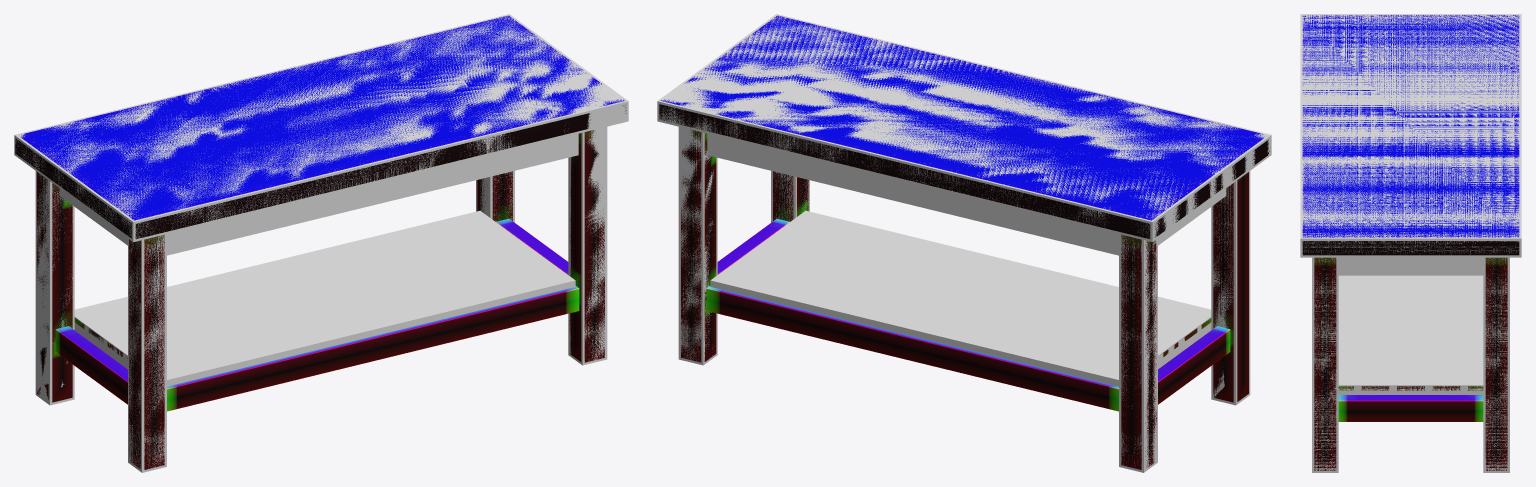
File: prop_workbench.fbx
The picture shows the model from 3 angles, left to right: view 1: azimuth 30°, elevation 25°; view 2: azimuth 150°, elevation 25°; view 3: azimuth 270°, elevation 25°; orthographic projection. The views are drawn at different scales.
Parts seen in each view (by area): view 1: prop_workbench, COL_2, COL_0, COL_1, COL_3, COL_5, COL_4, COL_6; view 2: prop_workbench, COL_0, COL_2, COL_1, COL_6, COL_4, COL_3, COL_5; view 3: prop_workbench, COL_0, COL_2, COL_6, COL_5, COL_1.
Boxes of the visible parts, bbox=[...] form: prop_workbench: bbox=[15, 15, 626, 469]; COL_2: bbox=[74, 211, 575, 386]; COL_0: bbox=[14, 14, 628, 242]; COL_1: bbox=[59, 133, 578, 255]; COL_3: bbox=[128, 234, 166, 472]; COL_5: bbox=[568, 127, 607, 365]; COL_4: bbox=[35, 171, 74, 405]; COL_6: bbox=[476, 171, 514, 222]; prop_workbench: bbox=[659, 15, 1269, 469]; COL_0: bbox=[657, 14, 1271, 242]; COL_2: bbox=[710, 211, 1211, 386]; COL_1: bbox=[707, 133, 1226, 255]; COL_6: bbox=[678, 127, 717, 365]; COL_4: bbox=[1119, 234, 1157, 472]; COL_3: bbox=[1211, 171, 1250, 405]; COL_5: bbox=[771, 171, 809, 222]; prop_workbench: bbox=[1302, 15, 1519, 470]; COL_0: bbox=[1300, 14, 1521, 257]; COL_2: bbox=[1338, 275, 1483, 394]; COL_6: bbox=[1483, 257, 1509, 472]; COL_5: bbox=[1312, 257, 1338, 472]; COL_1: bbox=[1338, 257, 1483, 275].
Bounding box in the file's own units: 1.8 × 0.9 × 0.75.
